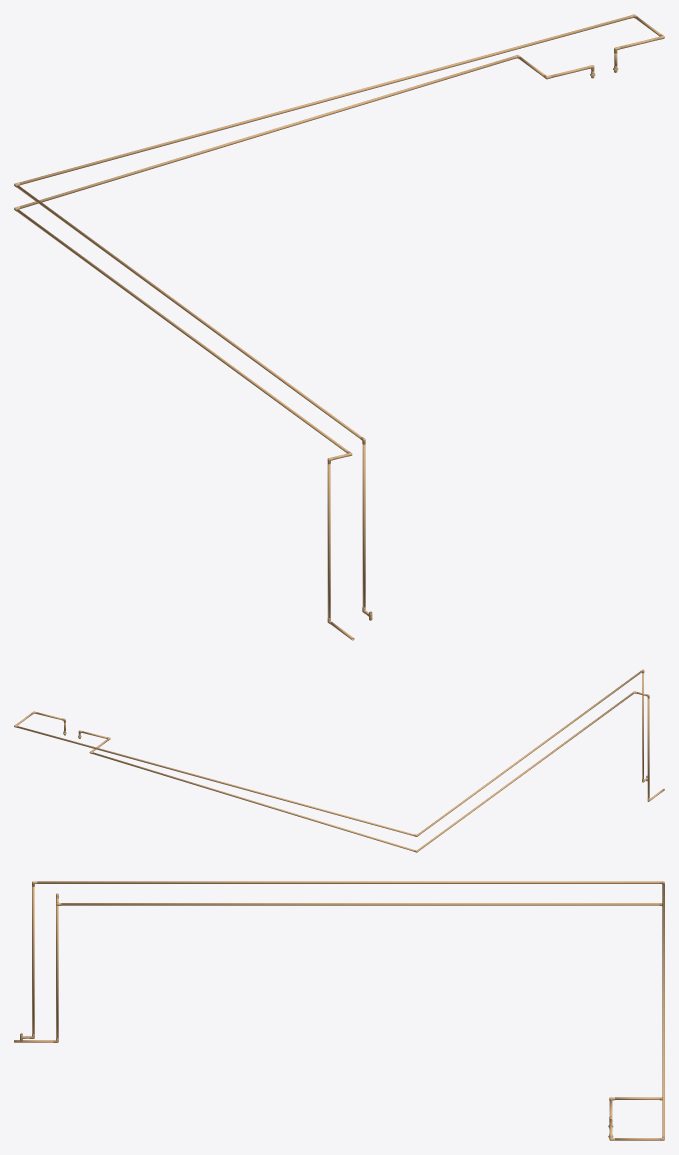
The model's file is slab_pipes_supply__water_heater-garage_gas_tank_and_plumbing-copper.glb.
3 views of the same model, one above another, from view 1: azimuth 30°, elevation 25°; view 2: azimuth 150°, elevation 25°; view 3: azimuth 270°, elevation 25° (orthographic). The views are drawn at different scales.
Parts seen in each view (by area): view 1: pipe_supply_cold_wh_garage_tank__copper, pipe_supply_hot_wh_garage_tank__copper; view 2: pipe_supply_cold_wh_garage_tank__copper, pipe_supply_hot_wh_garage_tank__copper; view 3: pipe_supply_cold_wh_garage_tank__copper, pipe_supply_hot_wh_garage_tank__copper.
Part boxes in pixels (bbox=[...]): pipe_supply_cold_wh_garage_tank__copper: bbox=[16, 15, 661, 614]; pipe_supply_hot_wh_garage_tank__copper: bbox=[16, 56, 594, 640]; pipe_supply_cold_wh_garage_tank__copper: bbox=[16, 670, 646, 835]; pipe_supply_hot_wh_garage_tank__copper: bbox=[79, 692, 664, 851]; pipe_supply_cold_wh_garage_tank__copper: bbox=[25, 881, 664, 1140]; pipe_supply_hot_wh_garage_tank__copper: bbox=[14, 895, 659, 1116].
Bounding box in the file's own units: 5.6 × 1.72 × 5.43.
